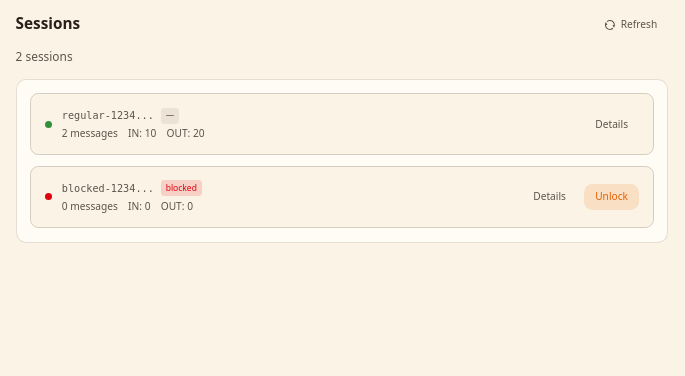
Test: SessionsPanel — миграция на Settings UI Kit (ADR-072) › раскрывает details и показывает поля сессии
Click the button "Details" in the row of "20": [612, 124] box [584, 111, 639, 137]
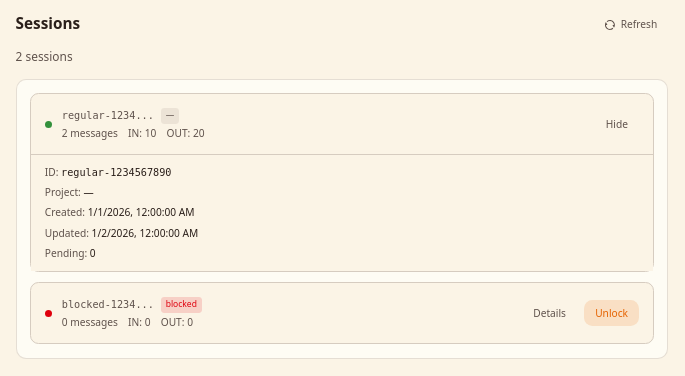
Expected: the button "Hide" is shown, [595, 111, 639, 137]
Result: the text "ID:" is shown at [45, 165, 58, 179]
Result: the text "regular-1234567890" is shown at [61, 167, 172, 178]
